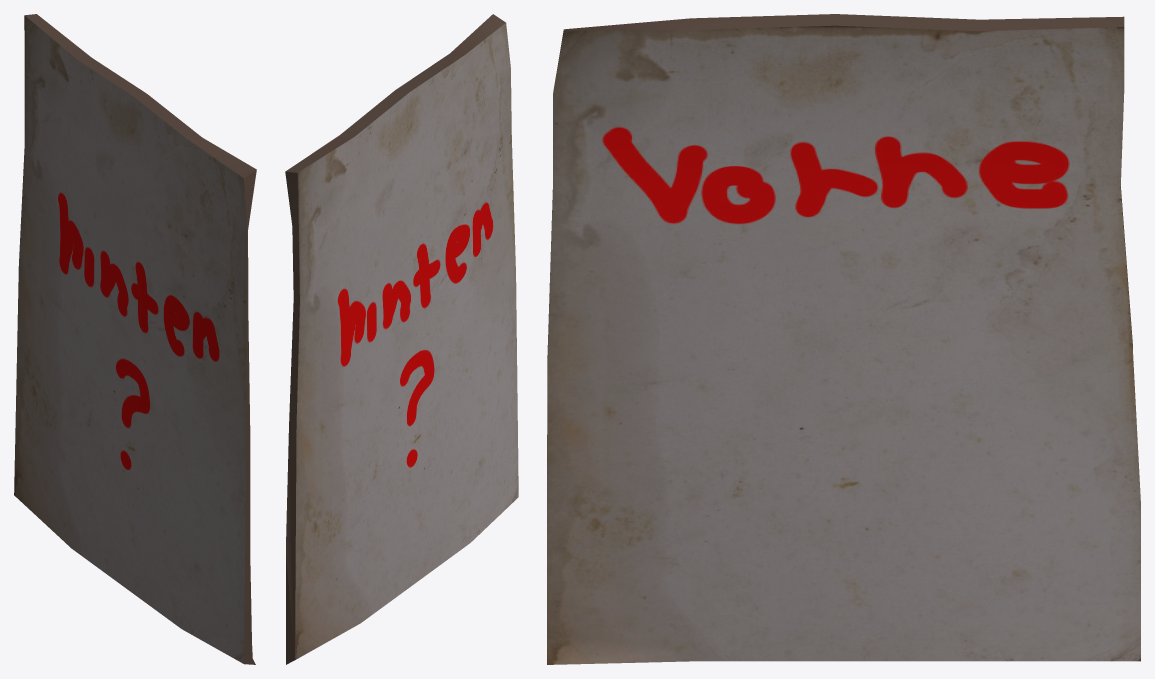
File: map_model.FBX
3 renders of one model, left to right at view 1: azimuth 30°, elevation 25°; view 2: azimuth 150°, elevation 25°; view 3: azimuth 270°, elevation 25°, orthographic. The views are drawn at different scales.
Parts seen in each view (by area): view 1: MAp; view 2: MAp; view 3: MAp.
Part boxes in pixels (x1=…): MAp: x1=14, y1=14, x2=256, y2=664; MAp: x1=285, y1=14, x2=518, y2=664; MAp: x1=547, y1=14, x2=1140, y2=664.
Size of the model in its own units: 0.2673 by 4.77 by 4.
Materials: 1 (1 with a texture image).
